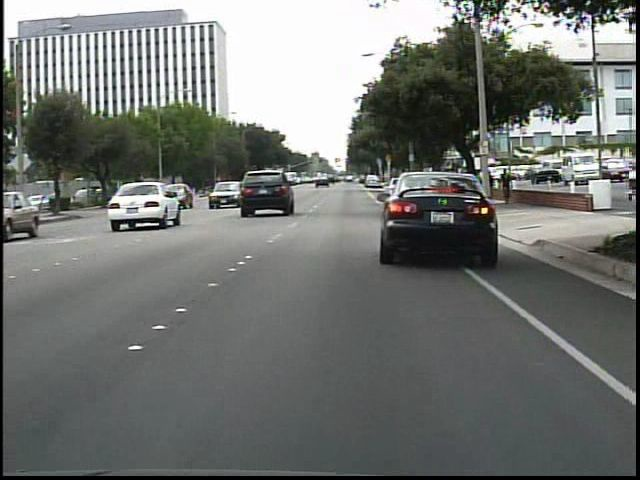person: (498, 167, 516, 207), (483, 168, 497, 203)
